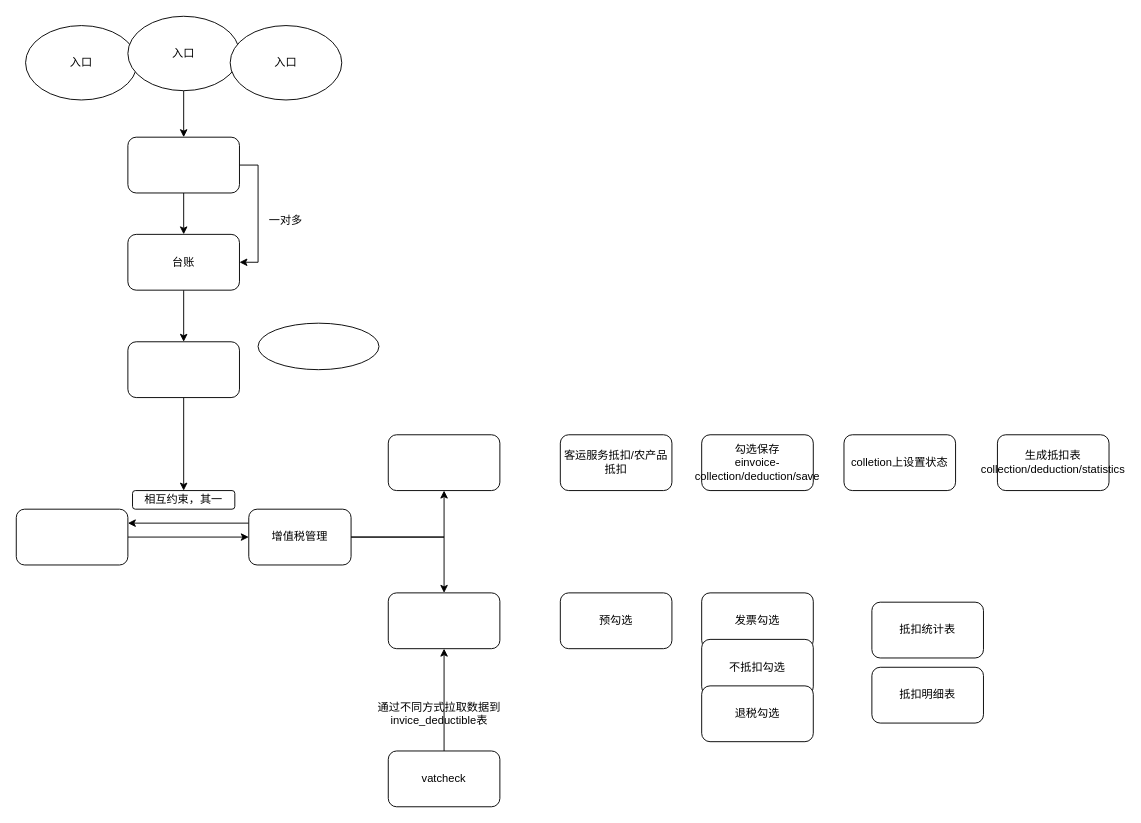
The diagram is 1141 pixels wide and 823 high, and some of its shapes have lost their labels. Here are the shapes that lost their labels. From the top down, the centre of each, then its label:
At [183,164]: "票据中心".
At [318,346]: "基于票 ？基于台账？".
At [183,369]: "进项税设置".
At [443,462]: "manual - verify 台账".
At [71,536]: "进项转出".
At [443,620]: "税局抵扣 invoice_deductible + 税盘".
